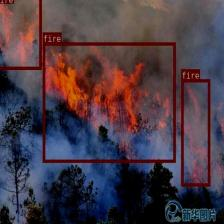fire: (42, 42, 176, 162), (180, 79, 210, 186), (0, 0, 41, 69)
